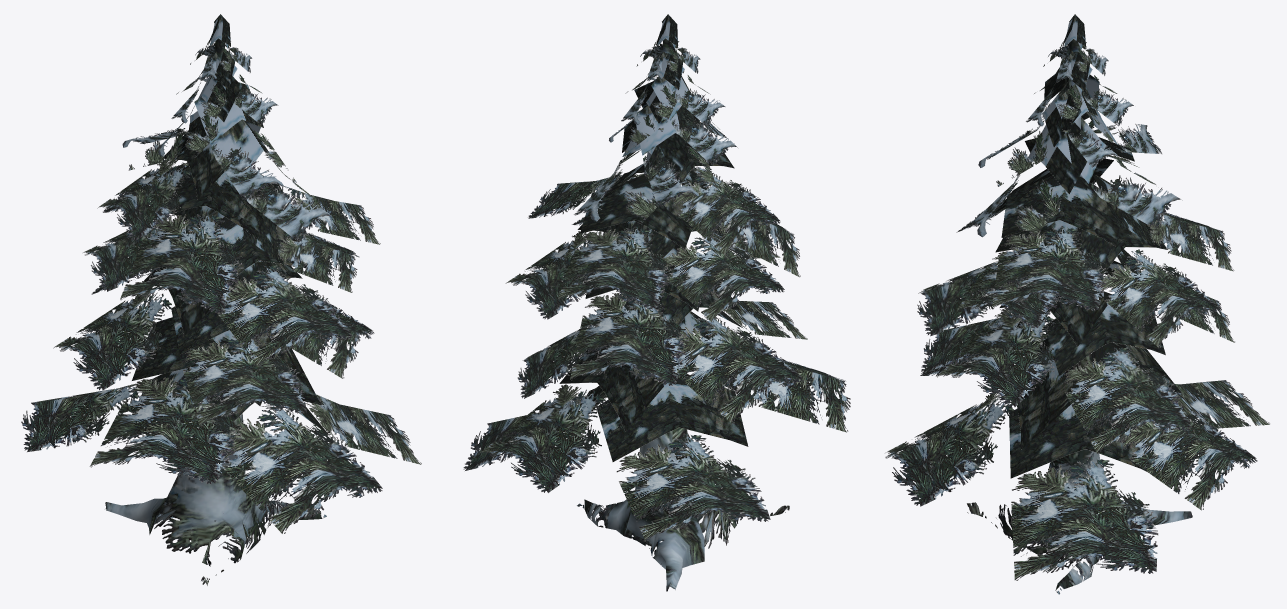
File: Tree_Pine_1.FBX
The picture shows the model from 3 angles, left to right: view 1: azimuth 30°, elevation 25°; view 2: azimuth 150°, elevation 25°; view 3: azimuth 270°, elevation 25°; orthographic projection. The views are drawn at different scales.
Visible parts, largest first — view 1: polySurface212; view 2: polySurface212; view 3: polySurface212.
Boxes of the visible parts, x1=… form: polySurface212: x1=21, y1=14, x2=421, y2=585; polySurface212: x1=463, y1=14, x2=850, y2=591; polySurface212: x1=885, y1=14, x2=1269, y2=594.
Bounding box in the file's own units: 0.7788 × 1.14 × 0.7589.
